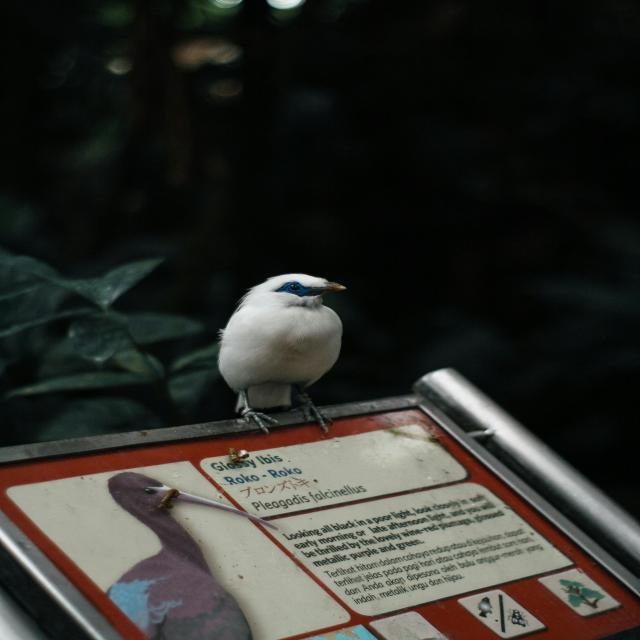Jalak Bali: (179, 244, 383, 454)
